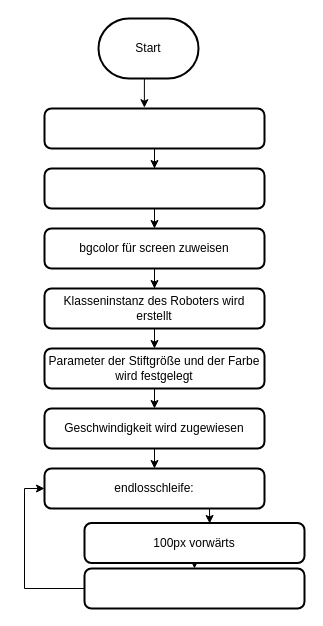
Image size: 323x626. Some labels were removed from this diagram. The shapes that lost their labels are listed below. From the top down, each one's centre as x and y in pixels, then its label:
At point 154,128: "importieren der Klassen Roboter und Screen".
At point 154,188: "initialisieren des Screens".
At point 194,588: "45° nach rechts drehen".
